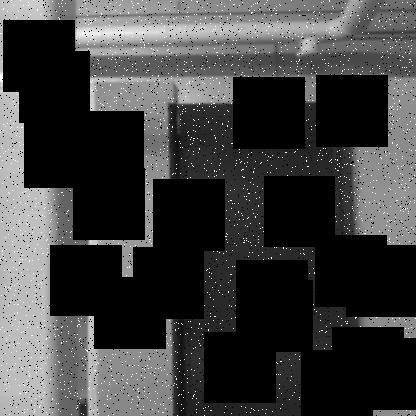Porte: (168, 99, 365, 416)
